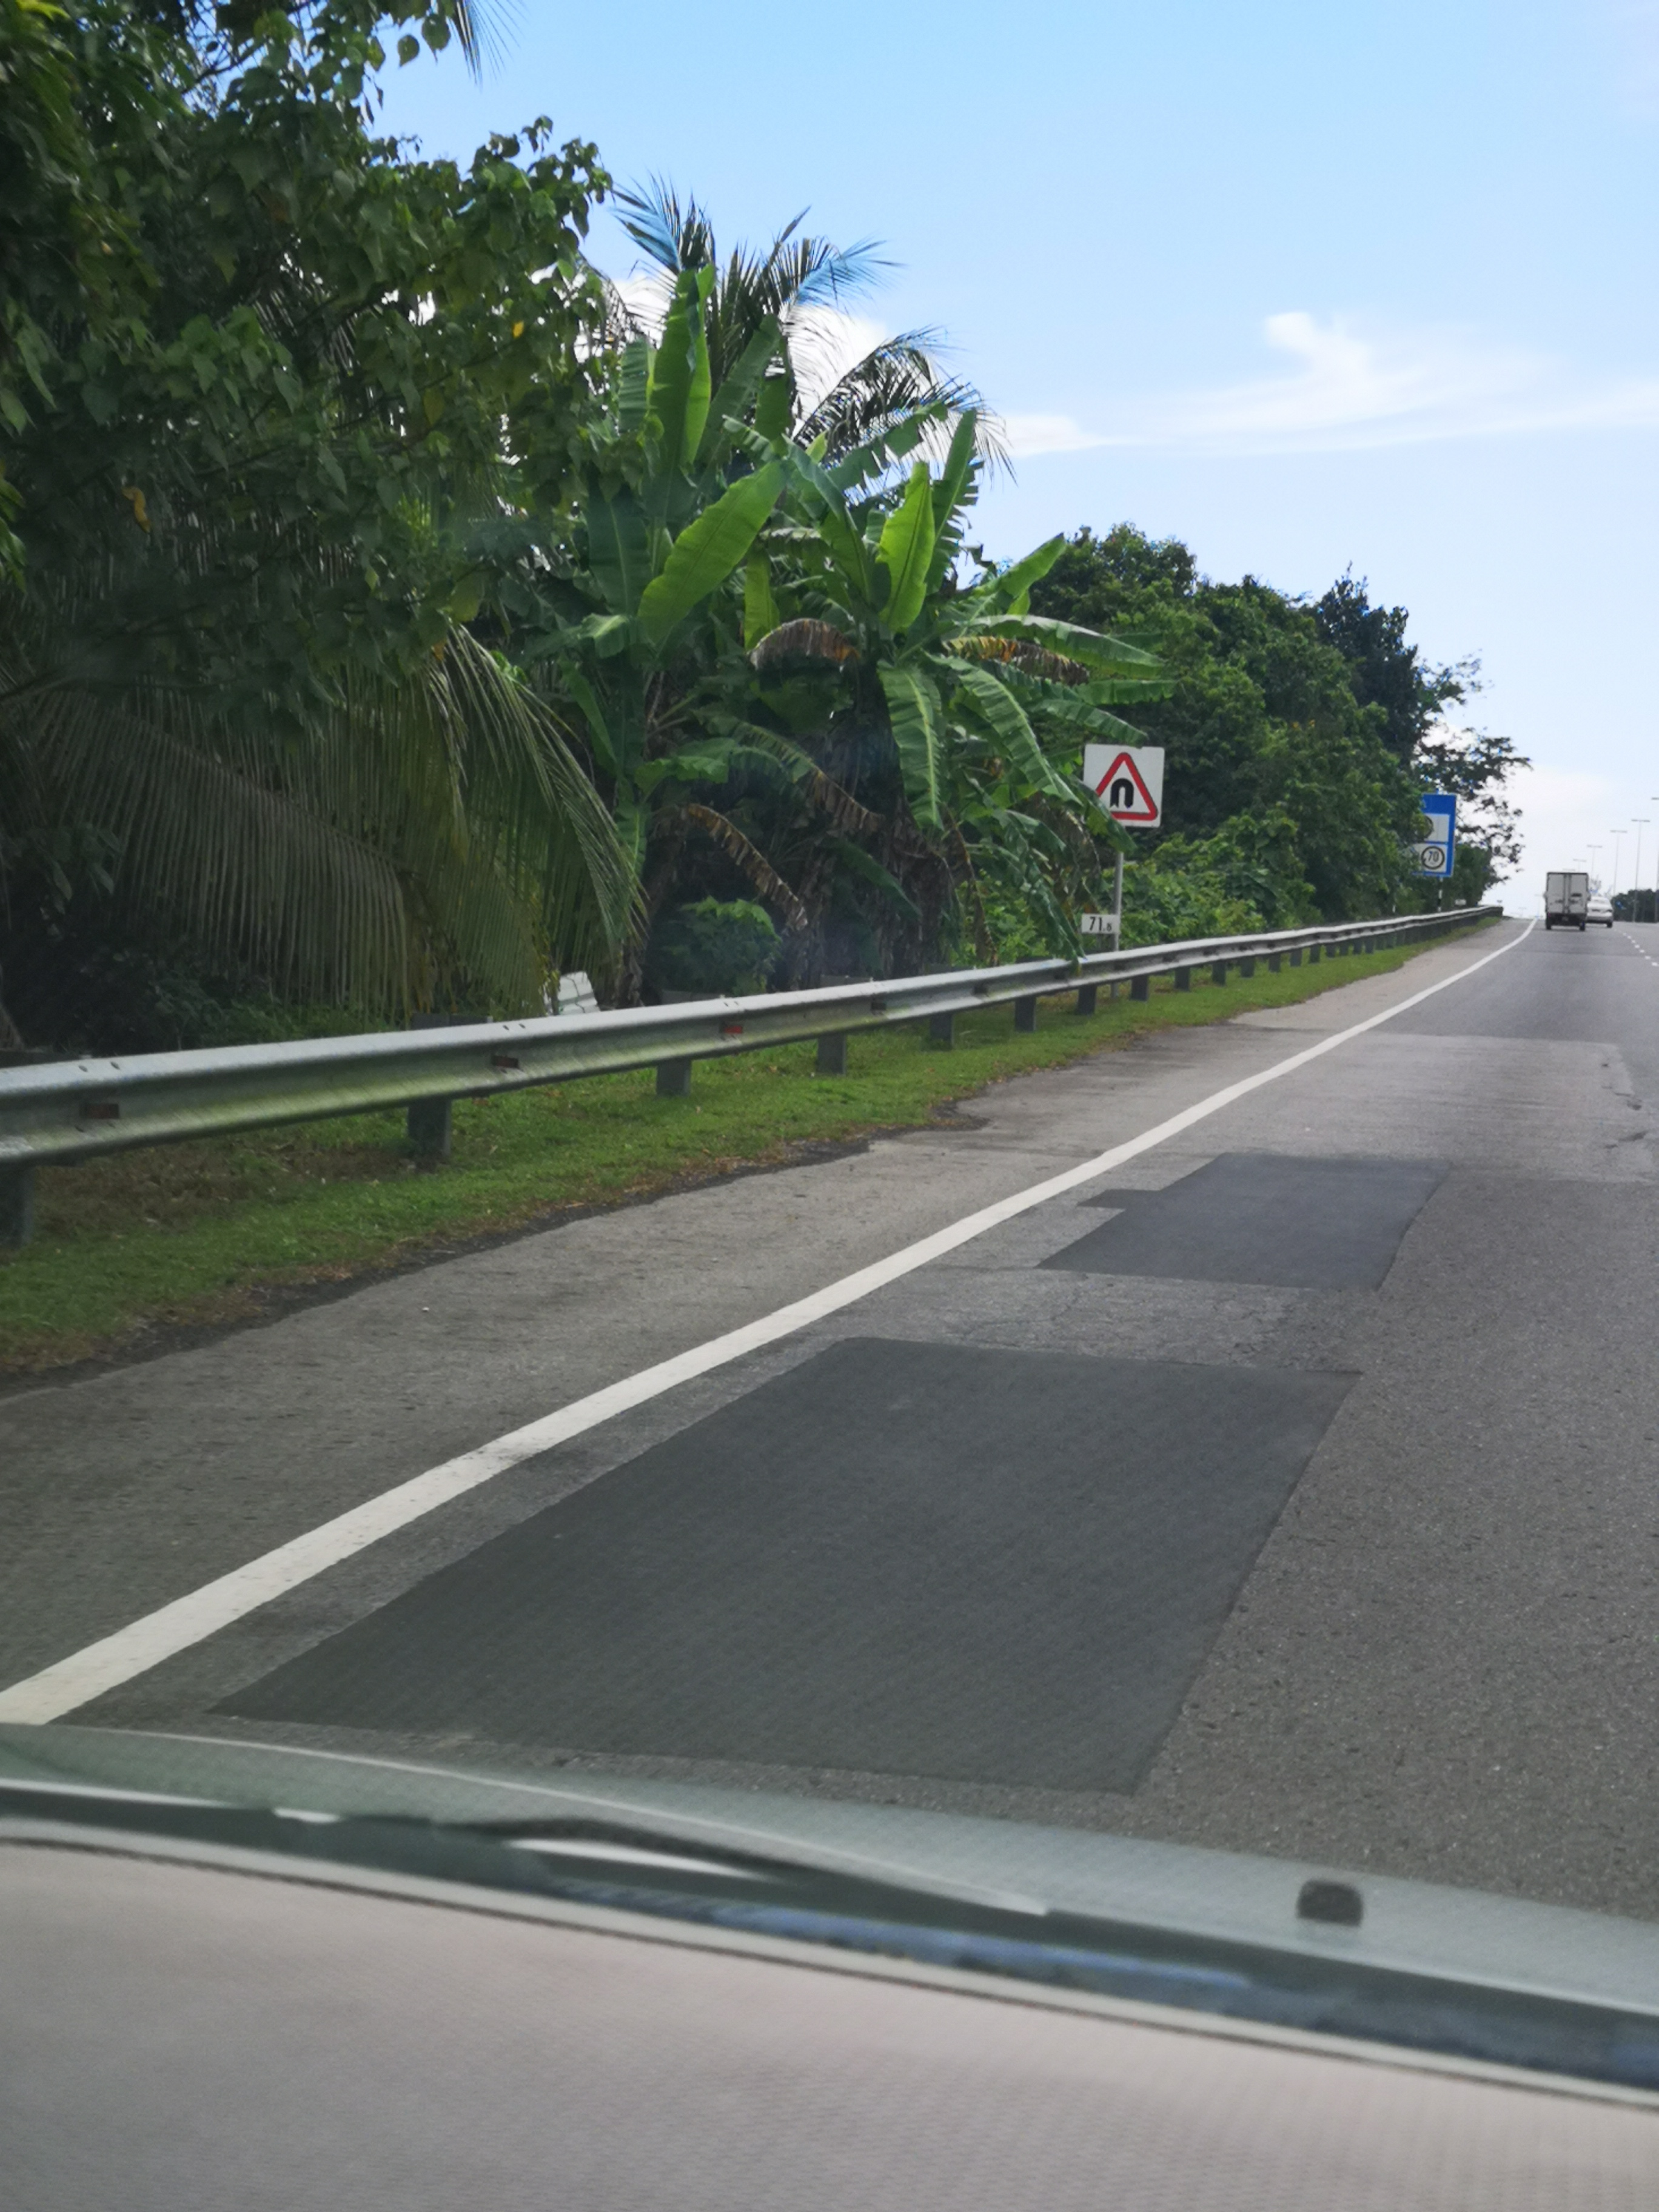U-turn: (1079, 735, 1173, 840)
